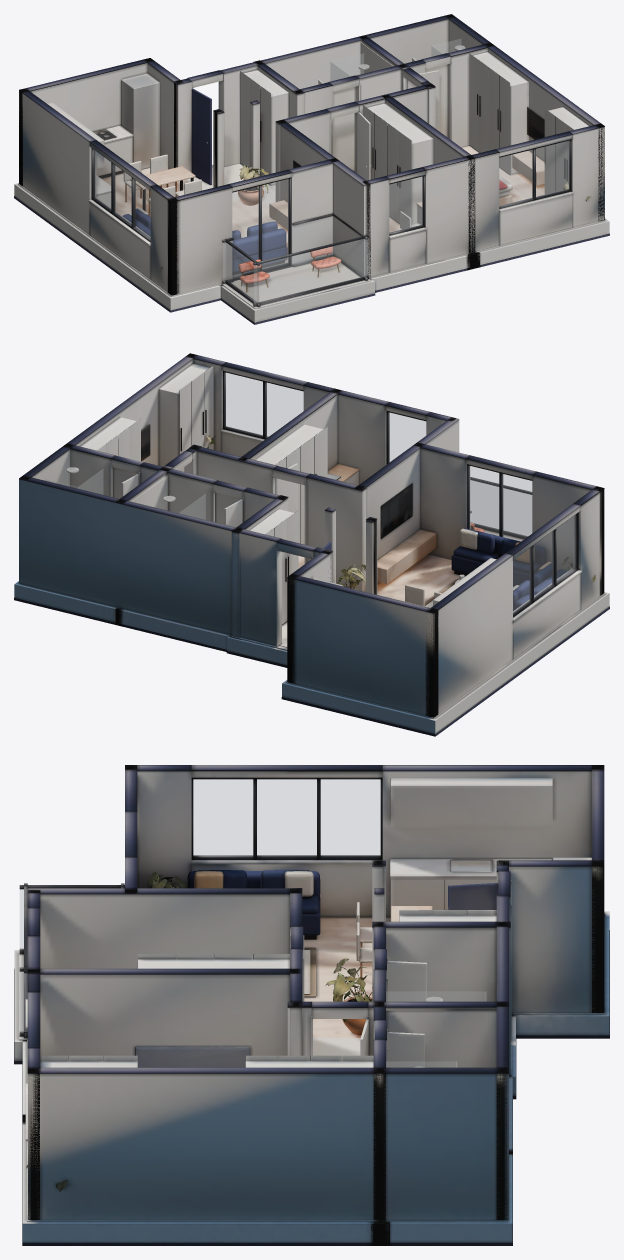
3 views of the same model, one above another, from view 1: azimuth 30°, elevation 25°; view 2: azimuth 150°, elevation 25°; view 3: azimuth 270°, elevation 25° (orthographic). The views are drawn at different scales.
Parts seen in each view (by area): view 1: plan, railg2_m, glass1_m, glass3_m, glass0_m, glass2_m, railg1_m, railg3_m, sg.001_m; view 2: plan, glass1_m, glass3_m, glass0_m, railg2_m, glass2_m; view 3: plan, glass0_m, sg_m.
Part boxes in pixels (x1,y1,x2,y2): plan: (14,14,609,324); railg2_m: (254,239,367,303); glass1_m: (232,179,288,275); glass3_m: (499,141,569,206); glass0_m: (94,150,150,238); glass2_m: (389,176,422,232); railg1_m: (293,216,333,263); railg3_m: (226,243,258,303); sg.001_m: (330,53,363,80); plan: (14,353,609,736); glass1_m: (469,466,531,540); glass3_m: (225,373,303,436); glass0_m: (513,515,575,613); railg2_m: (471,480,531,536); glass2_m: (389,412,425,462); plan: (14,765,609,1245); glass0_m: (193,779,380,855); sg_m: (386,992,485,1001).
Size of the model in its own units: 10.3 by 2.62 by 8.3.
Materials: 2 (1 with a texture image).
